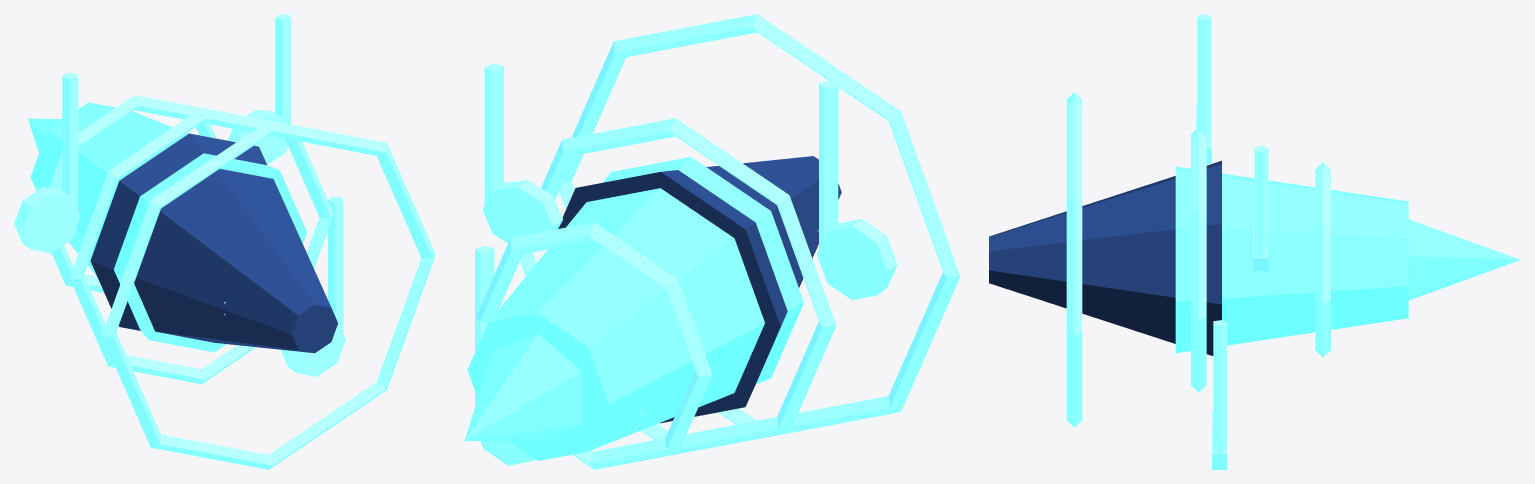
The model's file is SoundProjectile.fbx.
3 renders of one model, left to right at view 1: azimuth 30°, elevation 25°; view 2: azimuth 150°, elevation 25°; view 3: azimuth 270°, elevation 25°, orthographic. The views are drawn at different scales.
Parts seen in each view (by area): view 1: dark trailing sound tail, expanding soundwave ring 1, low poly sound body, expanding soundwave ring 2, music note head 1, expanding soundwave ring 3, music note stem 1, music note stem 3, music note stem 2, music note head 3, music note head 2, sharp sonic tip; view 2: low poly sound body, expanding soundwave ring 1, dark trailing sound tail, expanding soundwave ring 2, sharp sonic tip, expanding soundwave ring 3, music note head 1, music note head 2, music note stem 1, music note stem 2, music note stem 3, music note head 3; view 3: low poly sound body, dark trailing sound tail, expanding soundwave ring 1, sharp sonic tip, expanding soundwave ring 2, expanding soundwave ring 3, music note stem 3, music note stem 1, music note stem 2.
Part boxes in pixels (<box>): dark trailing sound tail: <box>90,133,337,353</box>; expanding soundwave ring 1: <box>102,120,435,469</box>; low poly sound body: <box>30,102,307,352</box>; expanding soundwave ring 2: <box>69,108,333,384</box>; music note head 1: <box>14,186,80,253</box>; expanding soundwave ring 3: <box>49,95,216,292</box>; music note stem 1: <box>62,73,78,210</box>; music note stem 3: <box>328,196,343,333</box>; music note stem 2: <box>275,14,291,124</box>; music note head 3: <box>281,320,345,376</box>; music note head 2: <box>228,109,288,164</box>; sharp sonic tip: <box>28,118,62,152</box>; low poly sound body: <box>467,157,803,460</box>; expanding soundwave ring 1: <box>559,14,960,438</box>; dark trailing sound tail: <box>558,156,841,423</box>; expanding soundwave ring 2: <box>520,118,836,454</box>; sharp sonic tip: <box>464,332,643,441</box>; expanding soundwave ring 3: <box>476,222,712,469</box>; music note head 1: <box>816,219,897,300</box>; music note head 2: <box>482,180,562,242</box>; music note stem 1: <box>819,80,838,248</box>; music note stem 2: <box>484,63,503,204</box>; music note stem 3: <box>475,245,494,407</box>; music note head 3: <box>480,441,535,465</box>; low poly sound body: <box>1175,166,1408,353</box>; dark trailing sound tail: <box>989,161,1221,355</box>; expanding soundwave ring 1: <box>1066,92,1082,427</box>; sharp sonic tip: <box>1350,219,1520,315</box>; expanding soundwave ring 2: <box>1191,127,1206,392</box>; expanding soundwave ring 3: <box>1315,162,1330,357</box>; music note stem 3: <box>1213,320,1227,452</box>; music note stem 1: <box>1197,14,1211,146</box>; music note stem 2: <box>1254,145,1268,257</box>.
Bounding box in the file's own units: 120 × 123 × 171.
